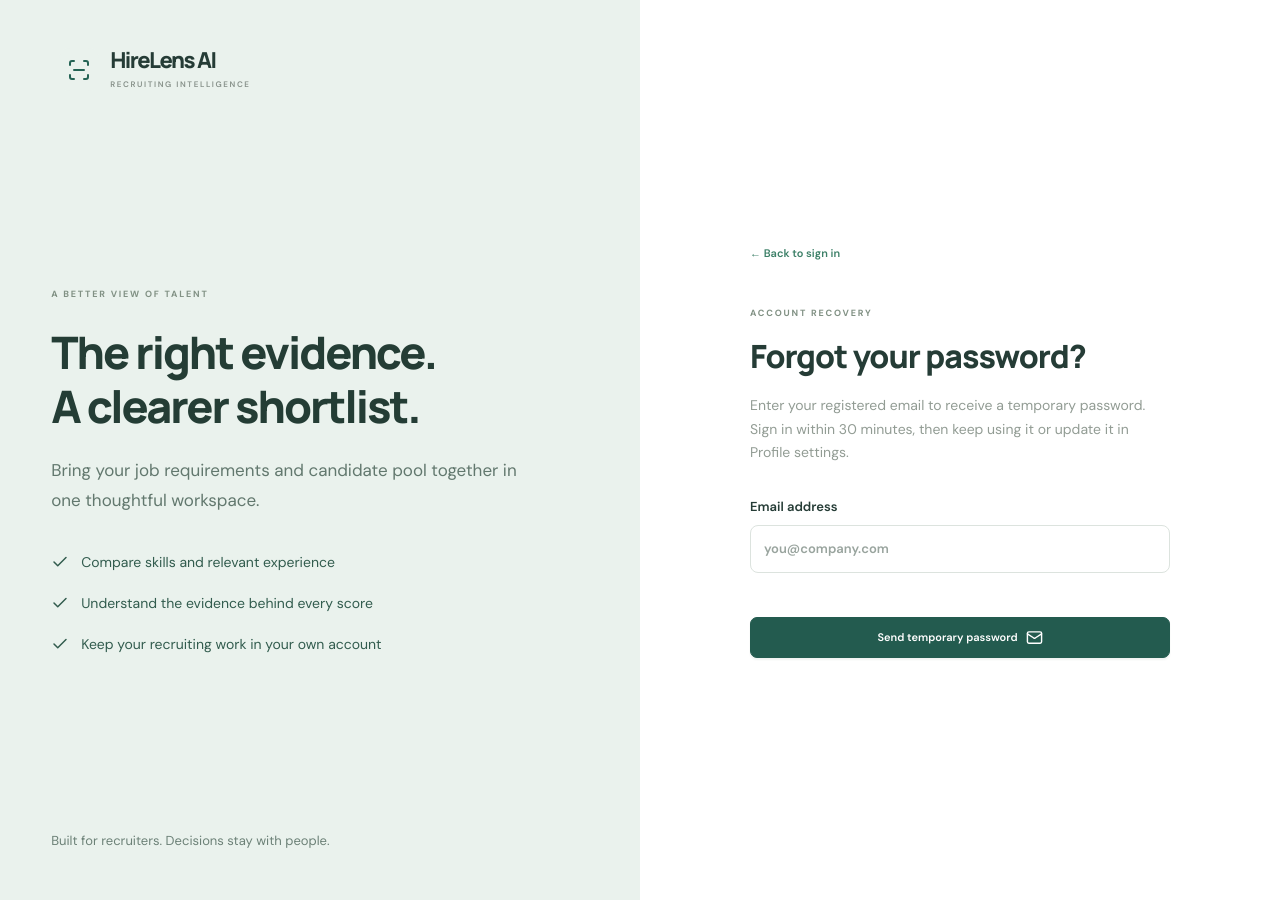
Scenario: requests a temporary password without exposing it in the page
Step 1. Type "test@example.test" into the field labelled "Email address" → point(960, 549), box [750, 525, 1170, 573]
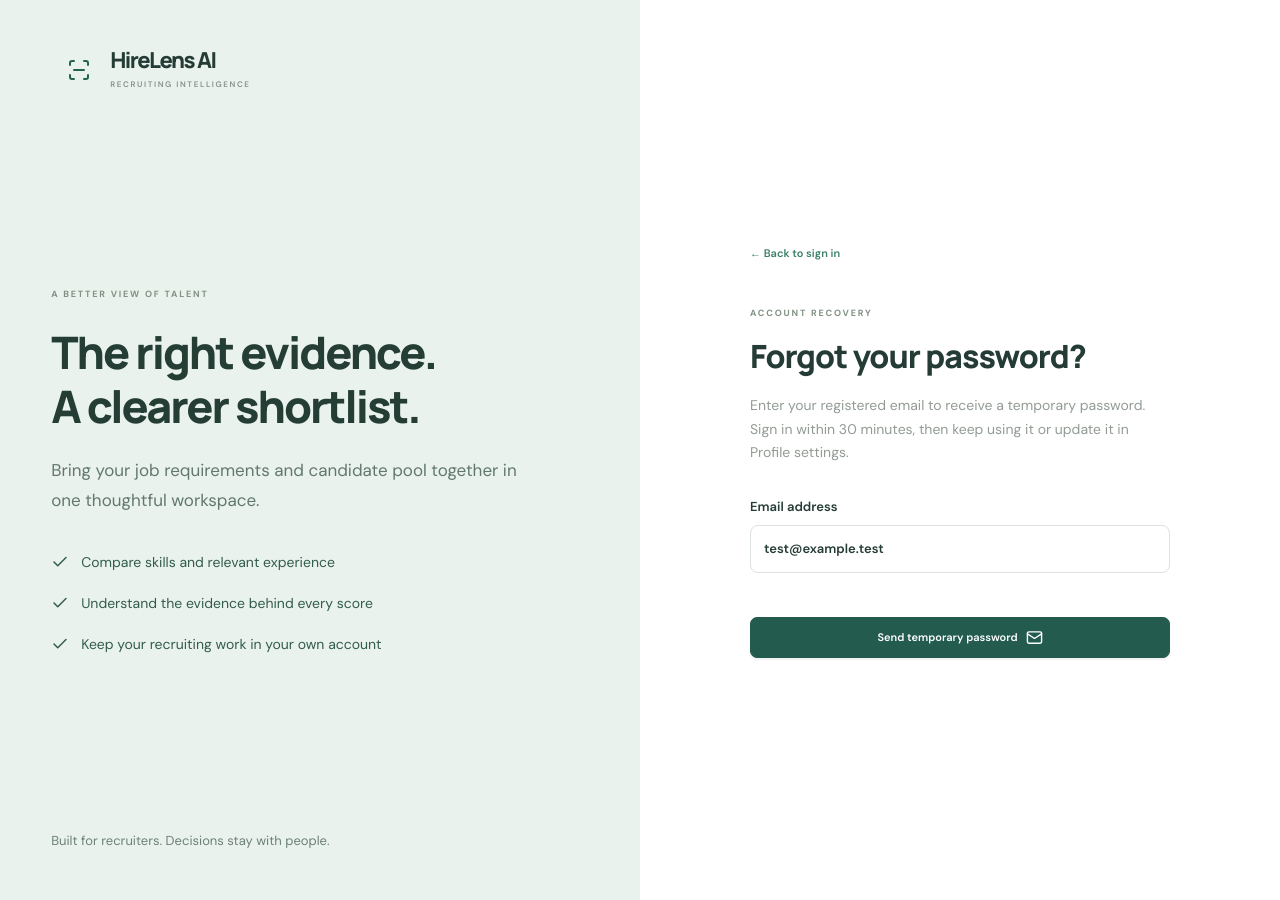
Step 2. Click the button "Send temporary password" → point(960, 637), box [750, 617, 1170, 658]
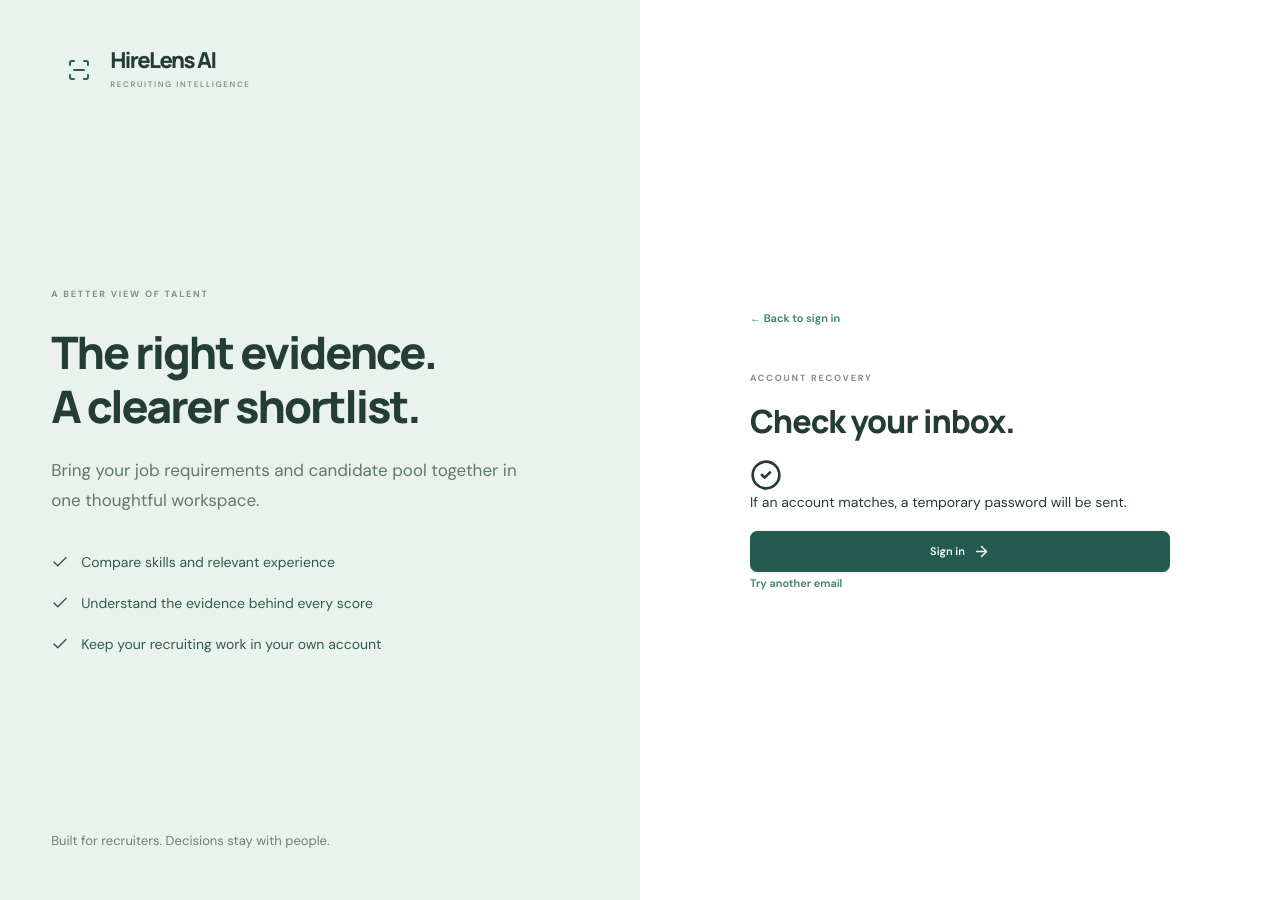
Result: the message shows "If an account matches" at [750, 493, 1126, 511]
